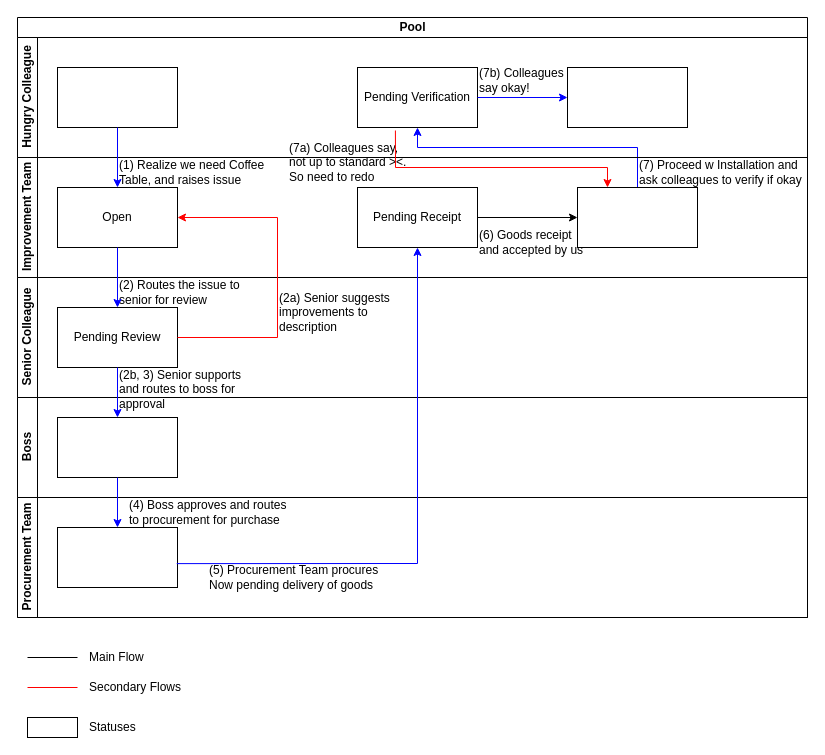
The diagram is 825 pixels wide and 755 high, and some of its shapes have lost their labels. Here are the shapes that lost their labels. From the top down, the centre of each, then its label:
point (117, 97): Discussion
point (627, 97): Closed
point (637, 217): Pending installation
point (117, 447): Pending Approval
point (117, 557): Pending Procurement
